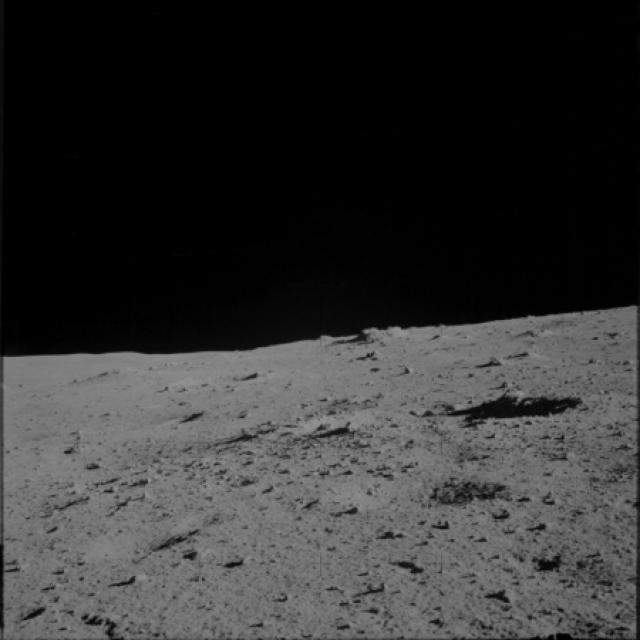crater: (338, 461, 519, 519), (82, 515, 206, 567)
rock: (86, 606, 154, 638), (484, 378, 536, 410), (316, 414, 363, 439), (351, 346, 385, 362), (473, 353, 503, 368), (514, 350, 542, 361)
